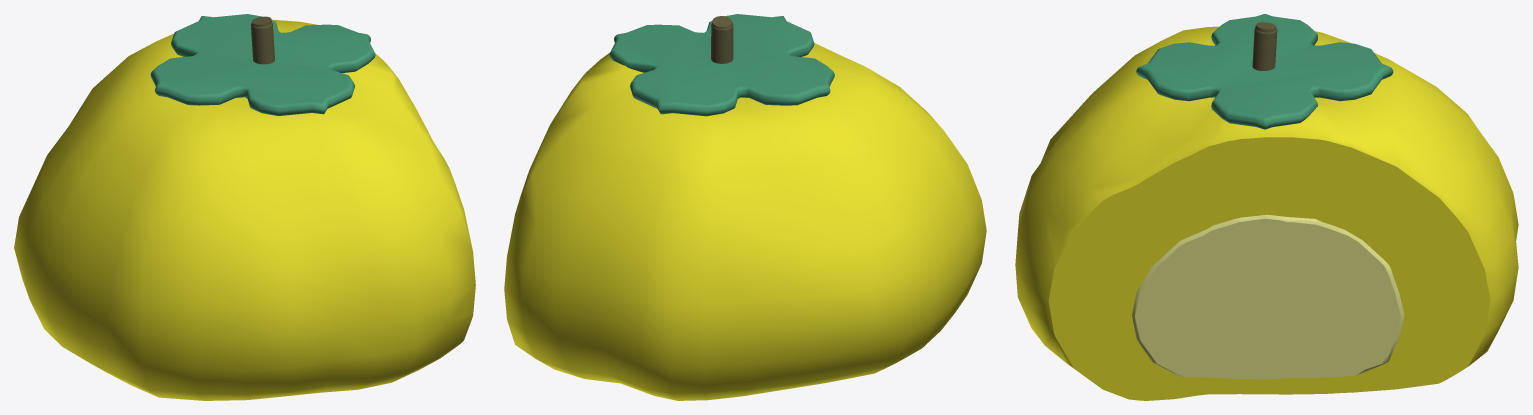
File: wagasi_yuzu.glb
The picture shows the model from 3 angles, left to right: view 1: azimuth 30°, elevation 25°; view 2: azimuth 150°, elevation 25°; view 3: azimuth 270°, elevation 25°; orthographic projection. The views are drawn at different scales.
Visible parts, largest first — view 1: 球, 円, 円柱; view 2: 球, 円, 円柱; view 3: 球, 球.001, 円, 円柱.
Boxes of the visible parts, x1=… form: 球: x1=14, y1=19, x2=475, y2=400; 円: x1=150, y1=14, x2=375, y2=115; 円柱: x1=251, y1=16, x2=274, y2=64; 球: x1=504, y1=43, x2=986, y2=400; 円: x1=609, y1=14, x2=834, y2=116; 円柱: x1=711, y1=16, x2=733, y2=63; 球: x1=1015, y1=26, x2=1518, y2=400; 球.001: x1=1132, y1=214, x2=1404, y2=379; 円: x1=1136, y1=14, x2=1393, y2=129; 円柱: x1=1252, y1=22, x2=1277, y2=70.
Size of the model in its own units: 3.73 by 3.43 by 4.81.
